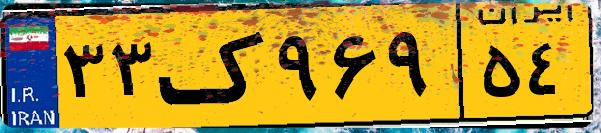3: (57, 26, 110, 100), (110, 28, 158, 98)
4: (525, 38, 570, 115)
5: (475, 38, 525, 113)
6: (330, 28, 385, 110)
9: (270, 28, 330, 110), (385, 28, 445, 110)
ک: (158, 12, 270, 120)
